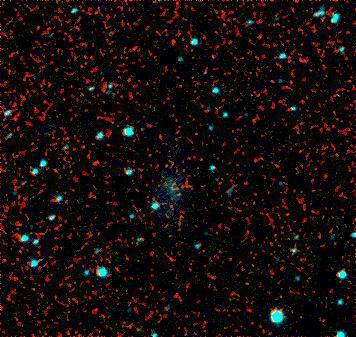star: (80, 149, 110, 179)
